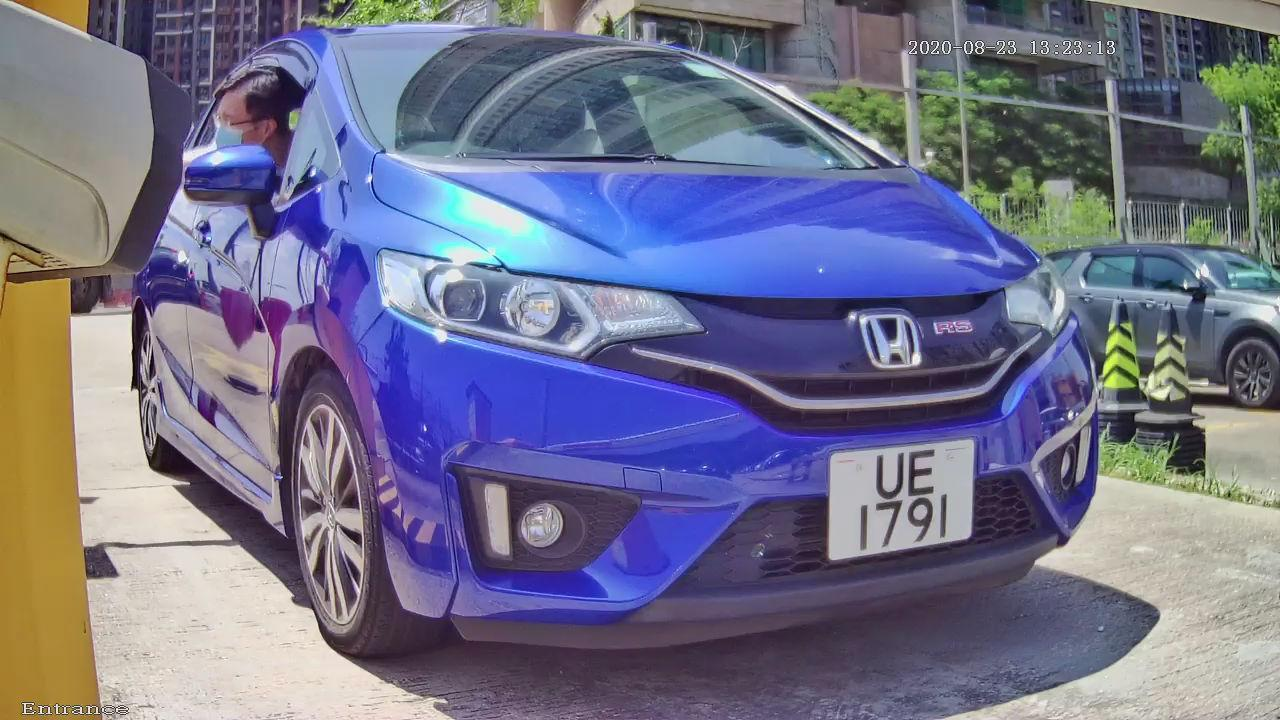License Plate: (806, 428, 983, 569)
